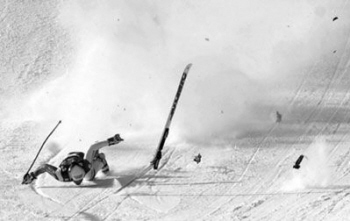fall: (13, 125, 128, 193)
